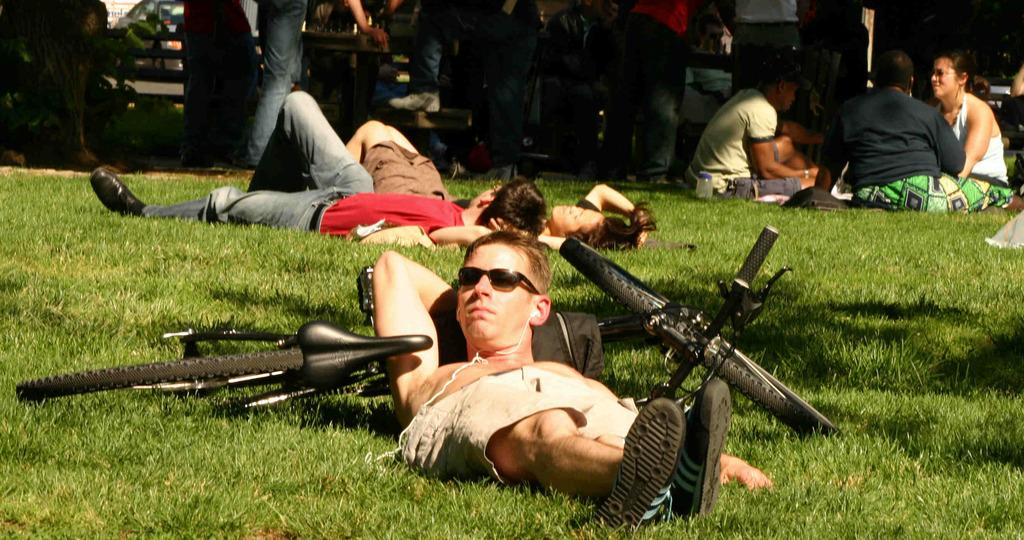Rifle: (562, 238, 831, 462)
